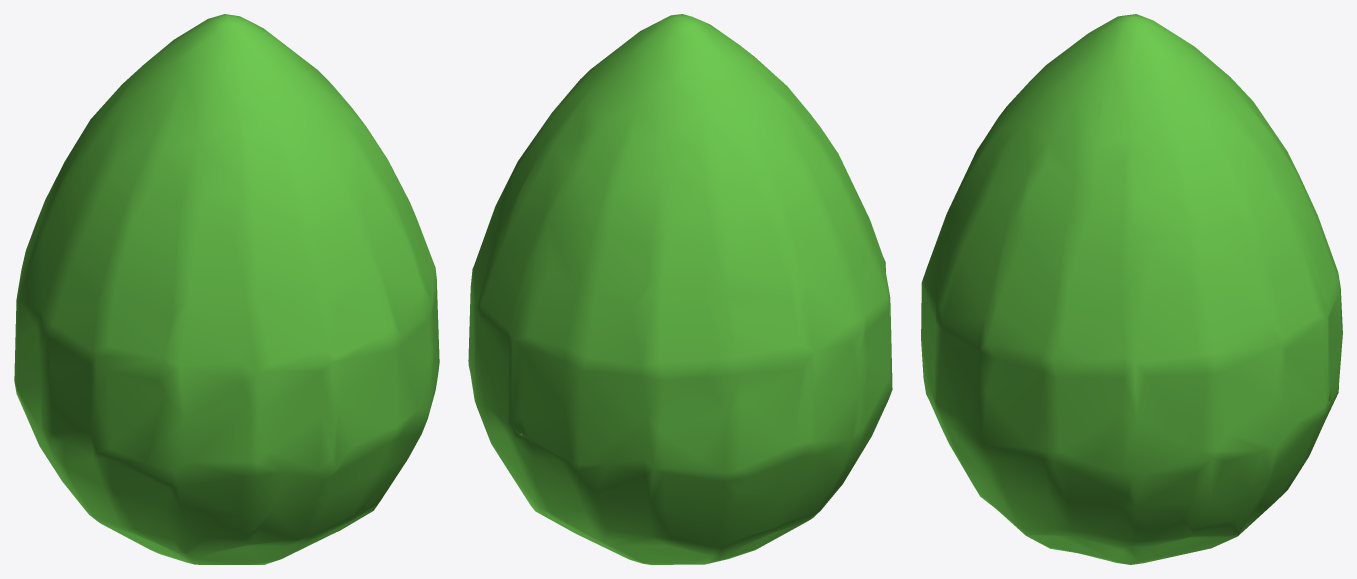
The model's file is gen3d-easter-egg-lod0.glb.
3 renders of one model, left to right at view 1: azimuth 30°, elevation 25°; view 2: azimuth 150°, elevation 25°; view 3: azimuth 270°, elevation 25°, orthographic.
Visible parts, largest first — view 1: part_0; view 2: part_0; view 3: part_0.
Part boxes in pixels (bbox=[...]): part_0: bbox=[14, 14, 439, 564]; part_0: bbox=[468, 14, 892, 564]; part_0: bbox=[921, 14, 1342, 564].
Size of the model in its own units: 0.7217 by 0.9973 by 0.7238.
